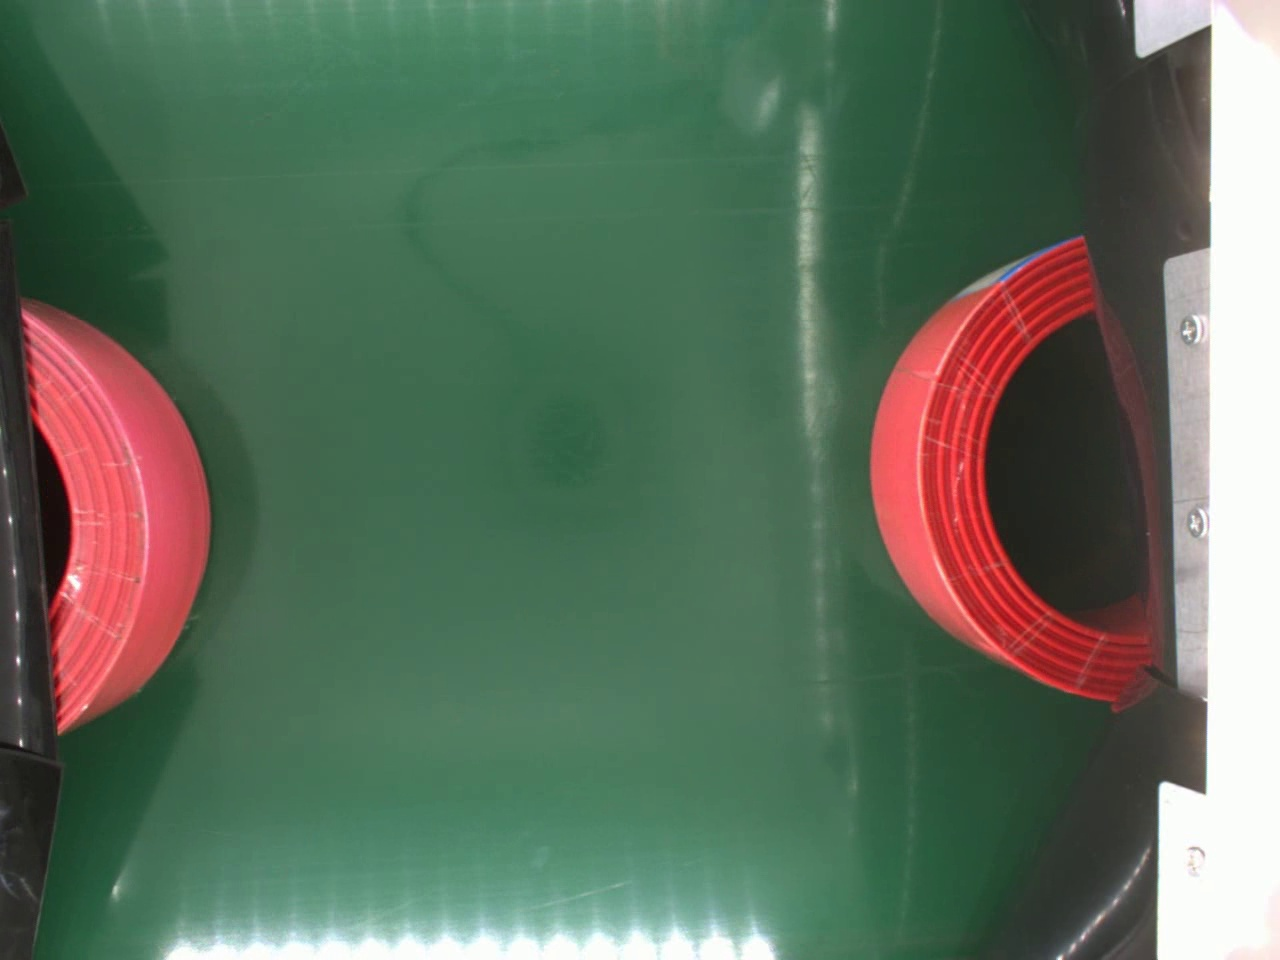red: (860, 231, 1148, 704), (20, 296, 213, 731)
